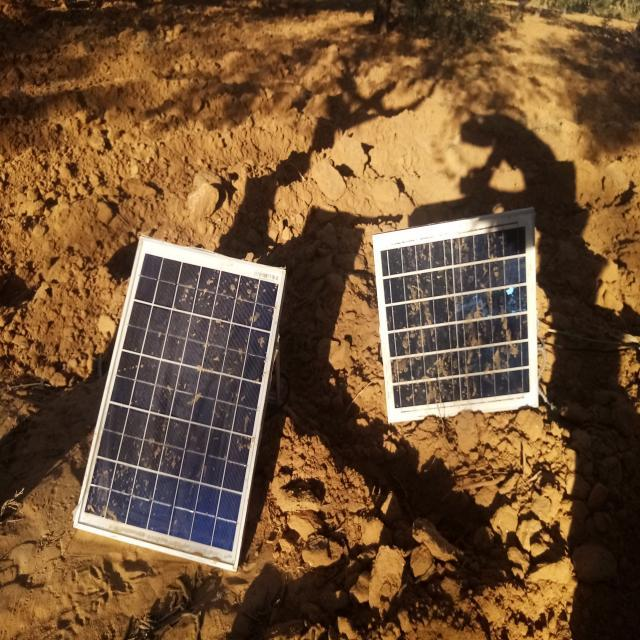faulty: (74, 237, 285, 571), (375, 210, 538, 421)
